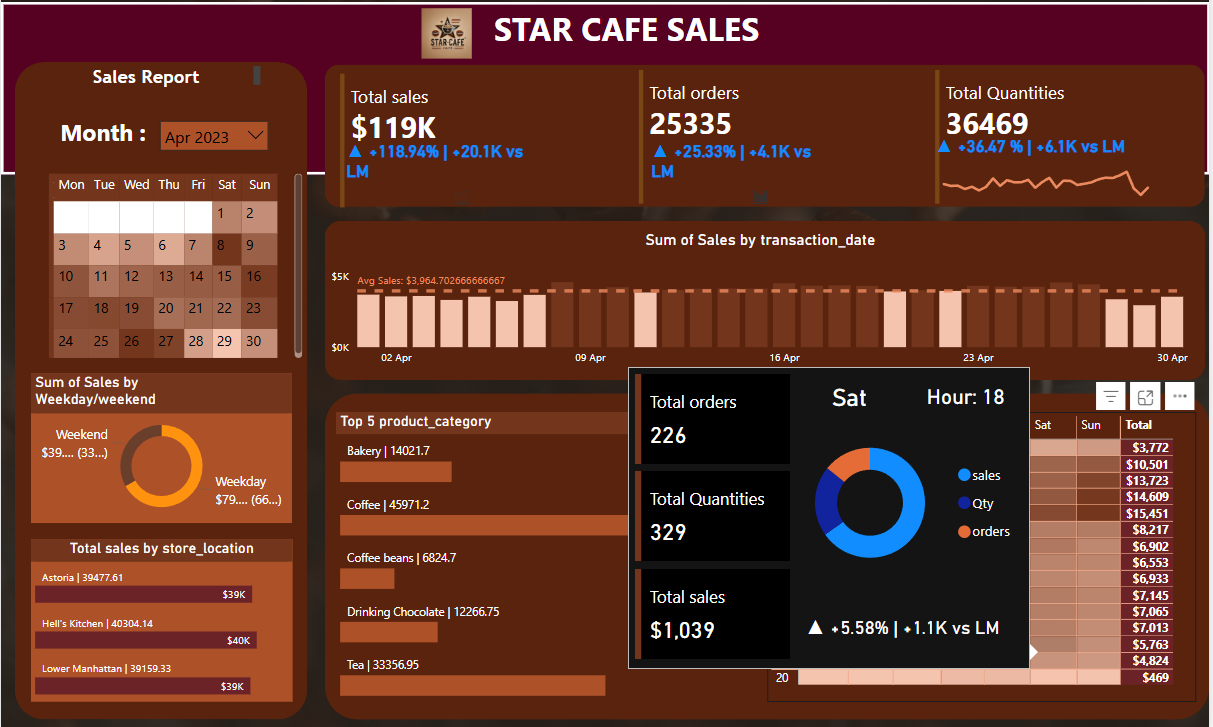

This screenshot's page, from the dashboard's own definition file:
{"tool":"powerbi","page":{"name":"DASHBOARD","canvas":[1400,850],"ordinal":2},"visuals":[{"type":"shape","box":[0,5.8,1400.7,199.9],"z":0},{"type":"shape","box":[15.9,75.3,339,761.9],"z":1000},{"type":"shape","box":[375.2,78.2,1019.8,165.1],"z":2000},{"type":"textbox","box":[566.4,5.8,379.5,69.5],"z":3000},{"type":"cardVisual","fields":{"Data":["Transactions.Total sales"]},"box":[388.2,84,291.2,165.1],"z":4000},{"type":"slicer","fields":{"Values":["Date Table.Month With year"]},"box":[173.8,133.3,146.3,66.6],"z":5000},{"type":"lineChart","fields":{"Y":["Transactions.Total sales"],"Category":["Date Table.Date.Variation.Date Hierarchy.Year","Date Table.Date.Variation.Date Hierarchy.Quarter","Date Table.Date.Variation.Date Hierarchy.Month","Date Table.Date.Variation.Date Hierarchy.Day"]},"box":[395.5,166.6,276.7,82.6],"z":6000},{"type":"cardVisual","fields":{"Data":["Transactions.Total orders"]},"box":[734.4,79.7,276.7,165.1],"z":7000},{"type":"lineChart","fields":{"Category":["Date Table.Date.Variation.Date Hierarchy.Year","Date Table.Date.Variation.Date Hierarchy.Quarter","Date Table.Date.Variation.Date Hierarchy.Month","Date Table.Date.Variation.Date Hierarchy.Day"],"Y":["Transactions.Total orders"]},"box":[748.9,166.6,262.2,82.6],"z":8000},{"type":"cardVisual","fields":{"Data":["Transactions.Total Quantities"]},"box":[1077.7,79.7,276.7,165.1],"z":9000},{"type":"lineChart","fields":{"Category":["Date Table.Date.Variation.Date Hierarchy.Year","Date Table.Date.Variation.Date Hierarchy.Quarter","Date Table.Date.Variation.Date Hierarchy.Month","Date Table.Date.Variation.Date Hierarchy.Day"],"Y":["Transactions.Total Quantities"]},"box":[1077.7,160.8,266.5,82.6],"z":10000},{"type":"pivotTable","fields":{"Rows":["Date Table.week number"],"Columns":["Date Table.day name"],"Values":["Min(Date Table.day number)"]},"box":[51.3,199.8,303.6,223.4],"z":11000},{"type":"donutChart","fields":{"Y":["Sum(Transactions.Sales)"],"Category":["Date Table.Weekday/weekend"]},"box":[34.8,436,302.7,173.8],"z":12000},{"type":"shape","box":[375.2,259.6,1020.6,184.6],"z":13000},{"type":"columnChart","fields":{"Category":["Transactions.transaction_date"],"Y":["Sum(Transactions.Sales)"]},"box":[378.2,270.2,1004.1,165.1],"z":14000},{"type":"clusteredBarChart","title":" Total sales by store_location","fields":{"Y":["Transactions.Place holder","Transactions.Total sales"],"Category":["Transactions.store_location"]},"box":[34.5,628.9,303.2,187.6],"z":15000},{"type":"shape","box":[375.2,459.3,1025.1,378.2],"z":16000},{"type":"clusteredBarChart","title":" Top 5 product_category","fields":{"Category":["Transactions.product_category"],"Y":["Transactions.Place holder","Transactions.Total sales"]},"box":[388.2,480.9,462.1,336.1],"z":17000},{"type":"pivotTable","fields":{"Rows":["Transactions.Hour"],"Columns":["Date Table.day name"],"Values":["Transactions.Total sales"]},"box":[888,480.9,496.8,336.1],"z":19000},{"type":"textbox","box":[63.7,133.3,121.7,56.5],"z":20000},{"type":"textbox","box":[101.4,75.3,204.2,40.6],"z":21000},{"type":"image","box":[482.4,5.8,68.1,72.4],"z":22000}]}

Visuals, with their boxes in screenshot pixels (x1, y1, x2, y2), scaled from the page's 1400x850 canvas onto the 1213x727 screenshot:
shape: bbox=(0, 5, 1212, 176)
shape: bbox=(14, 64, 307, 716)
shape: bbox=(325, 67, 1209, 208)
textbox: bbox=(491, 5, 820, 64)
cardVisual - Transactions.Total sales: bbox=(336, 72, 589, 213)
slicer - Date Table.Month With year: bbox=(151, 114, 277, 171)
lineChart - Transactions.Total sales x Date Table.Date.Variation.Date Hierarchy.Year: bbox=(343, 142, 582, 213)
cardVisual - Transactions.Total orders: bbox=(636, 68, 876, 209)
lineChart - Date Table.Date.Variation.Date Hierarchy.Year x Date Table.Date.Variation.Date Hierarchy.Quarter: bbox=(649, 142, 876, 213)
cardVisual - Transactions.Total Quantities: bbox=(934, 68, 1173, 209)
lineChart - Date Table.Date.Variation.Date Hierarchy.Year x Date Table.Date.Variation.Date Hierarchy.Quarter: bbox=(934, 138, 1165, 208)
pivotTable - Date Table.week number x Date Table.day name: bbox=(44, 171, 307, 362)
donutChart - Sum(Transactions.Sales) x Date Table.Weekday/weekend: bbox=(30, 373, 292, 522)
shape: bbox=(325, 222, 1209, 380)
columnChart - Transactions.transaction_date x Sum(Transactions.Sales): bbox=(328, 231, 1198, 372)
" Total sales by store_location" clusteredBarChart: bbox=(30, 538, 293, 698)
shape: bbox=(325, 393, 1212, 716)
" Top 5 product_category" clusteredBarChart: bbox=(336, 411, 737, 699)
pivotTable - Transactions.Hour x Date Table.day name: bbox=(769, 411, 1200, 699)
textbox: bbox=(55, 114, 161, 162)
textbox: bbox=(88, 64, 265, 99)
image: bbox=(418, 5, 477, 67)
